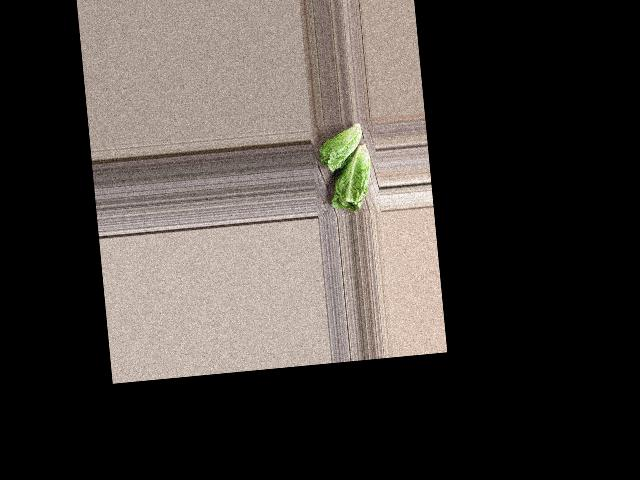lettuce: (312, 119, 367, 174)
